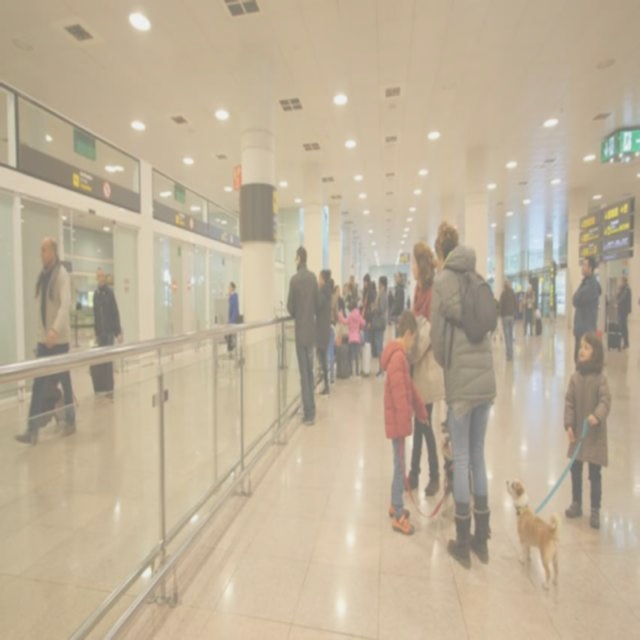pessoa: (428, 215, 500, 572), (11, 234, 78, 446), (378, 307, 431, 537), (562, 328, 614, 532), (406, 240, 442, 499), (285, 243, 323, 428), (91, 264, 124, 404), (570, 254, 599, 374), (313, 268, 333, 398), (336, 297, 366, 383), (366, 272, 389, 380), (332, 272, 364, 322), (497, 276, 515, 360), (326, 277, 339, 388), (615, 272, 633, 350), (389, 269, 406, 340), (360, 272, 374, 344), (521, 282, 536, 338), (504, 278, 517, 342), (227, 280, 240, 326), (386, 286, 394, 326), (368, 278, 378, 306), (604, 288, 608, 334), (616, 284, 624, 300), (406, 290, 410, 312)
